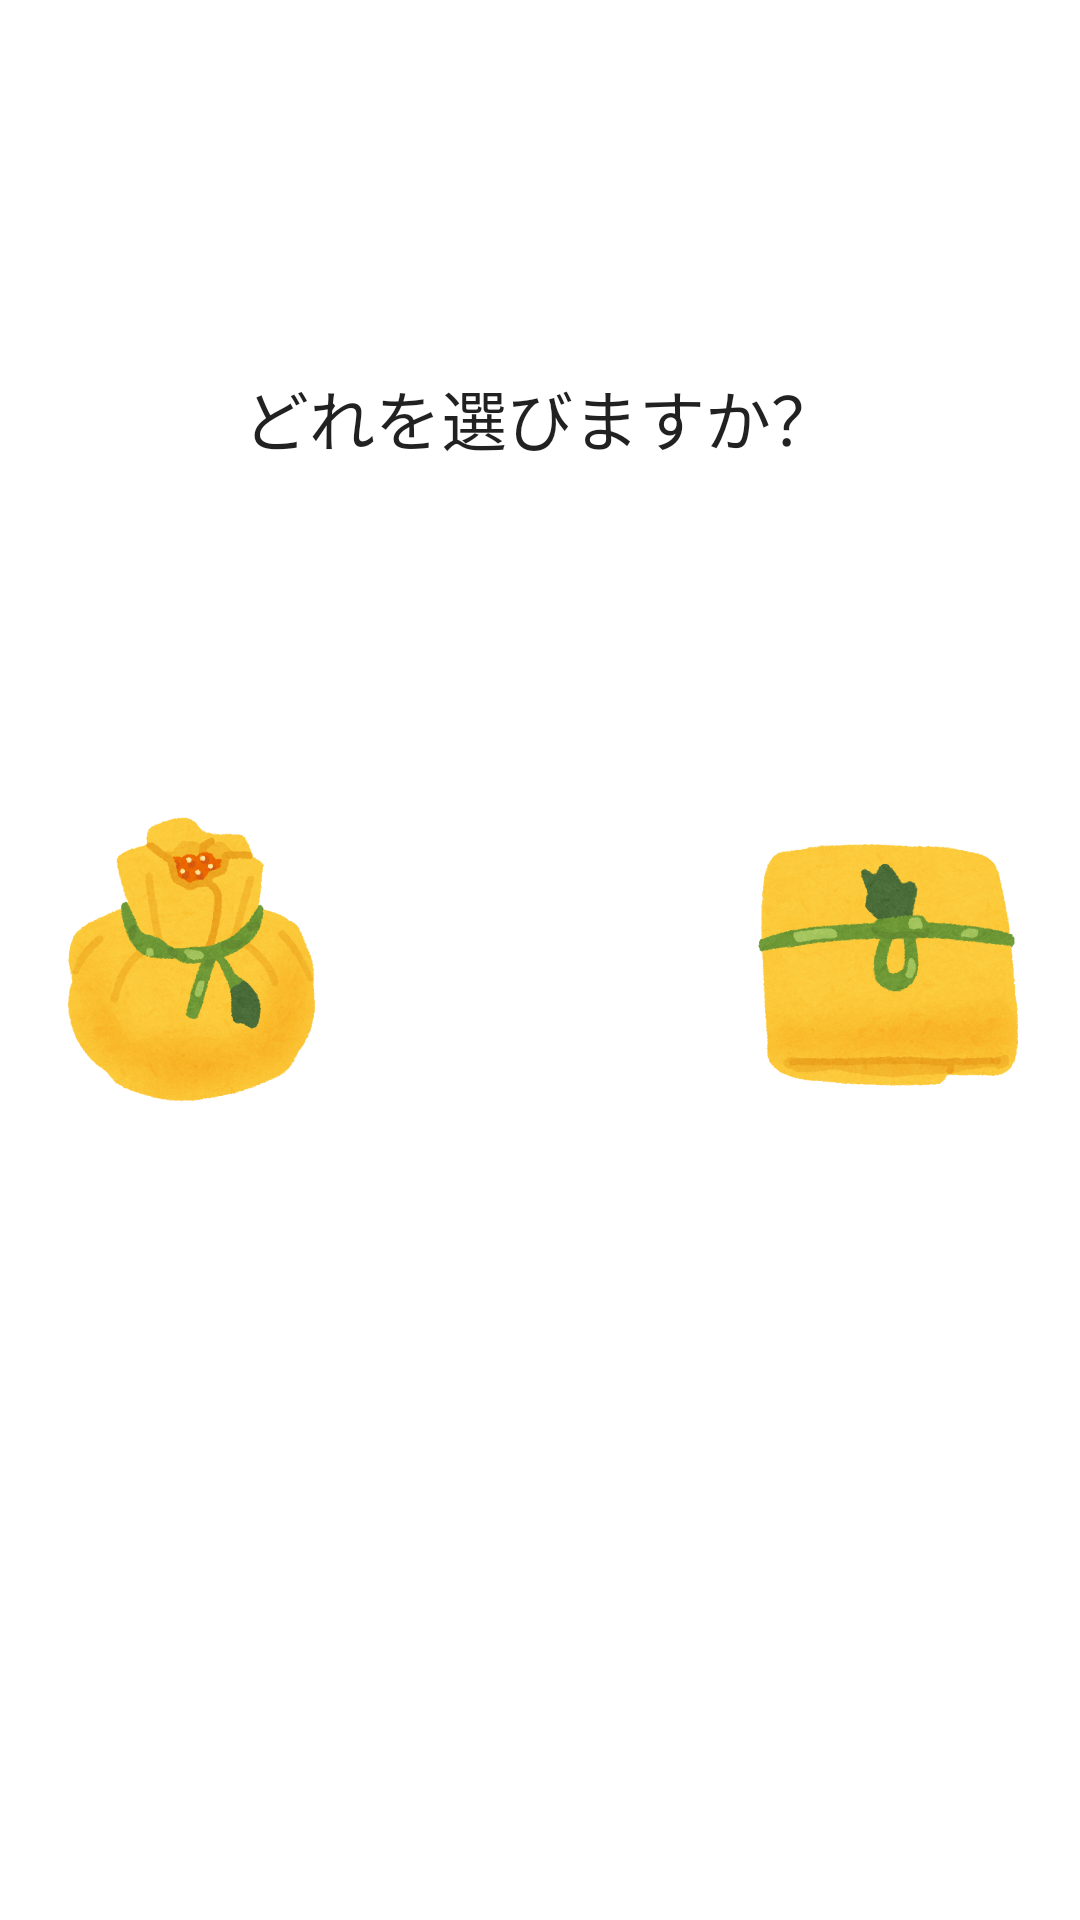

Screen size 1080px x 1920px. Icon name, then its center in pixels as (x,y):
sushi chakinzushi: (191,959), (888,965)
